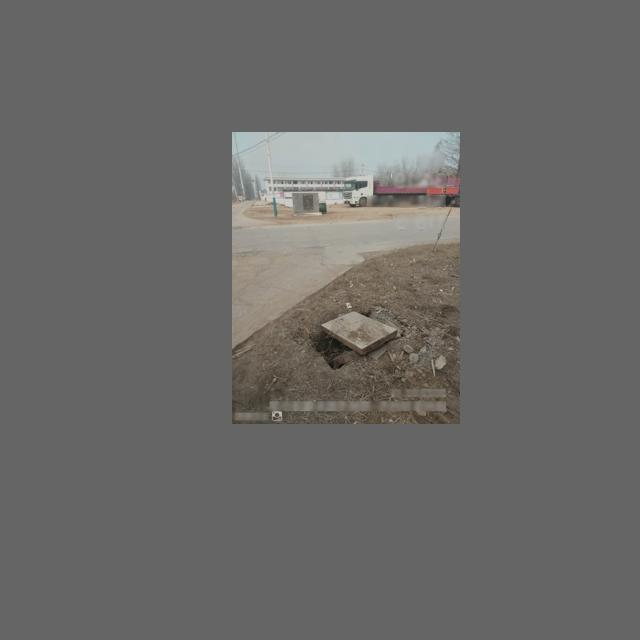circle: (304, 304, 410, 375)
